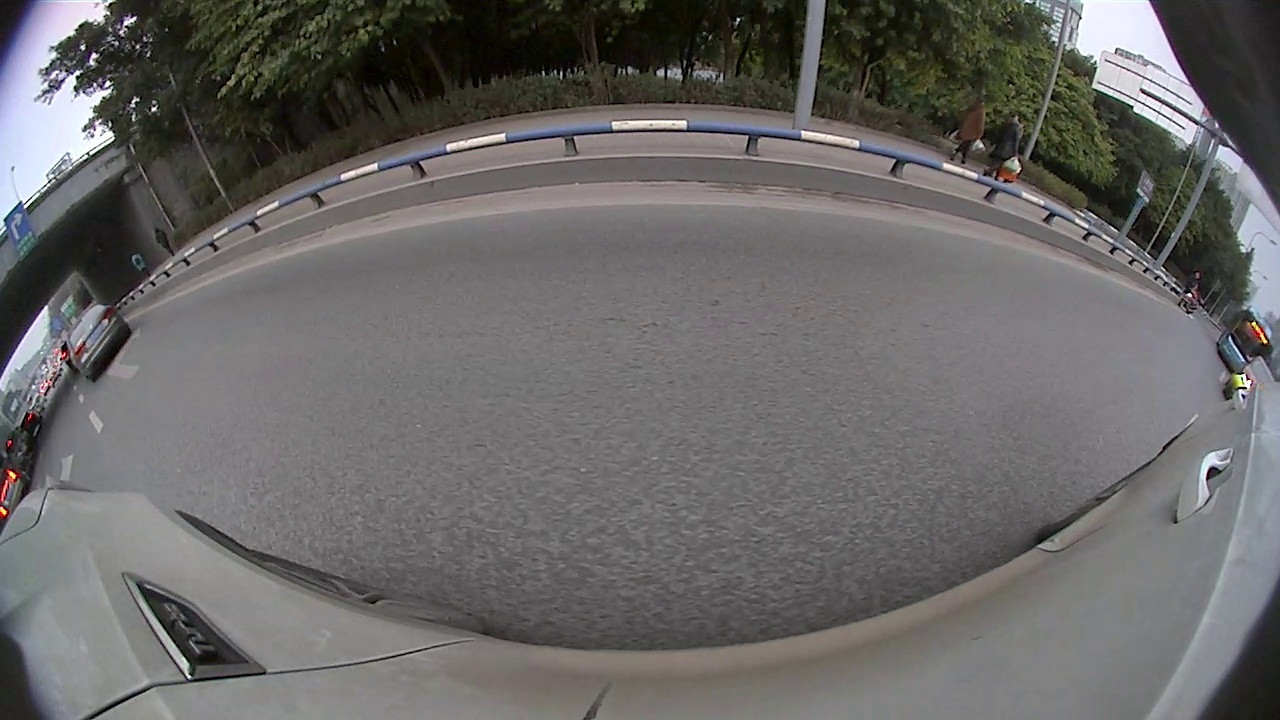bus: (66, 193, 250, 311)
car: (243, 139, 472, 292), (0, 322, 106, 435), (581, 148, 656, 198), (493, 163, 539, 190)
front: (51, 359, 95, 410), (448, 192, 470, 233)
rear: (353, 215, 397, 276)
